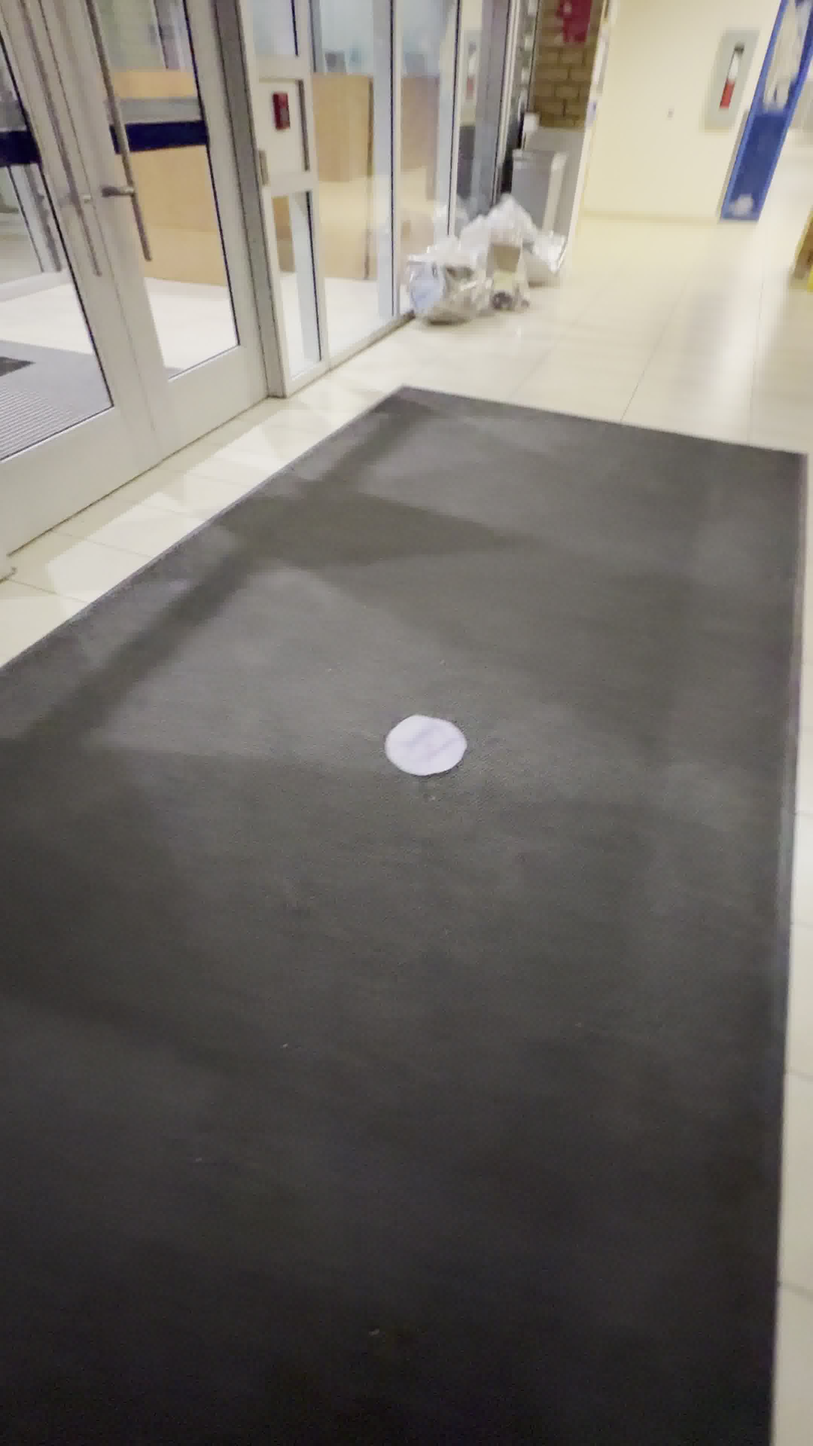Target: (384, 714, 467, 776)
